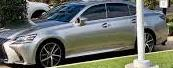Cars: (144, 9, 166, 51)
